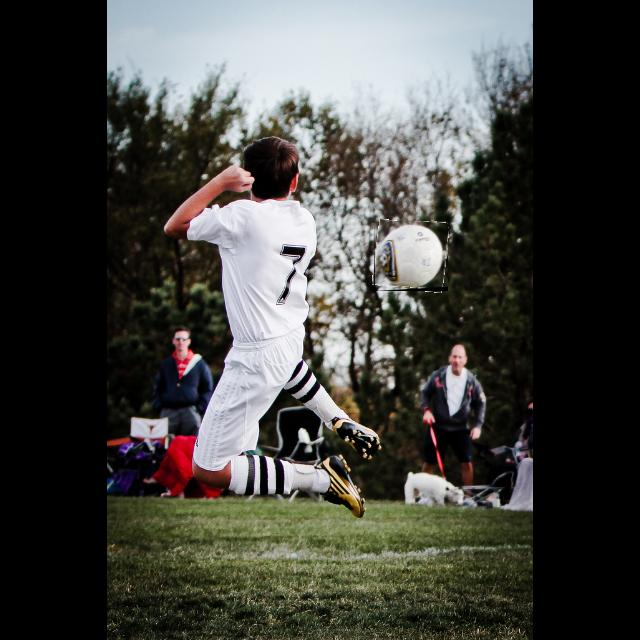Football: (374, 221, 448, 291)
